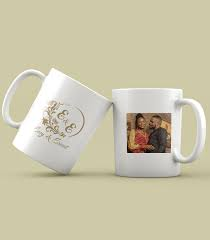mug: (1, 63, 116, 182), (103, 78, 210, 192)
